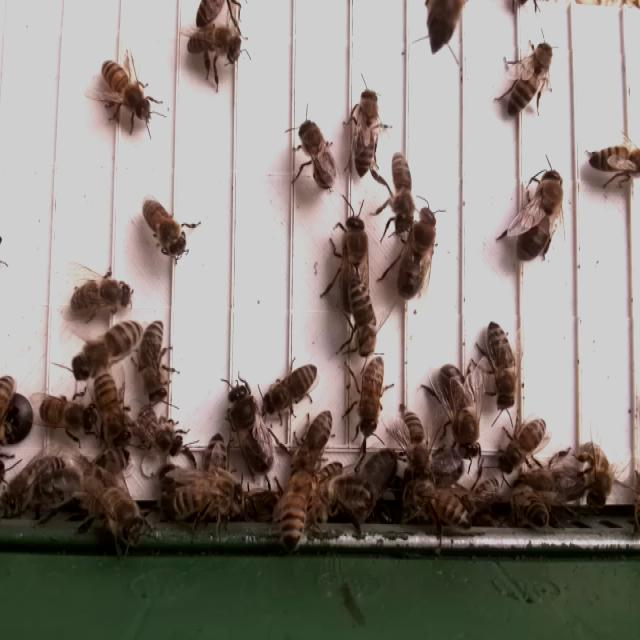Drone: (514, 164, 566, 263), (225, 381, 276, 479), (394, 207, 441, 302), (435, 362, 481, 458), (510, 460, 588, 508), (333, 212, 368, 314)
Worker: (73, 318, 143, 376), (98, 58, 156, 126), (506, 38, 554, 118), (483, 319, 522, 412), (259, 359, 320, 414), (133, 404, 189, 462), (138, 316, 174, 404), (67, 273, 135, 318), (296, 116, 336, 192), (142, 196, 190, 259), (499, 415, 548, 476), (183, 22, 245, 67), (295, 408, 333, 480), (355, 354, 387, 439), (95, 369, 129, 448), (351, 86, 380, 178), (396, 406, 431, 481), (346, 276, 378, 358), (588, 139, 640, 183), (386, 154, 414, 233), (38, 397, 94, 436)
